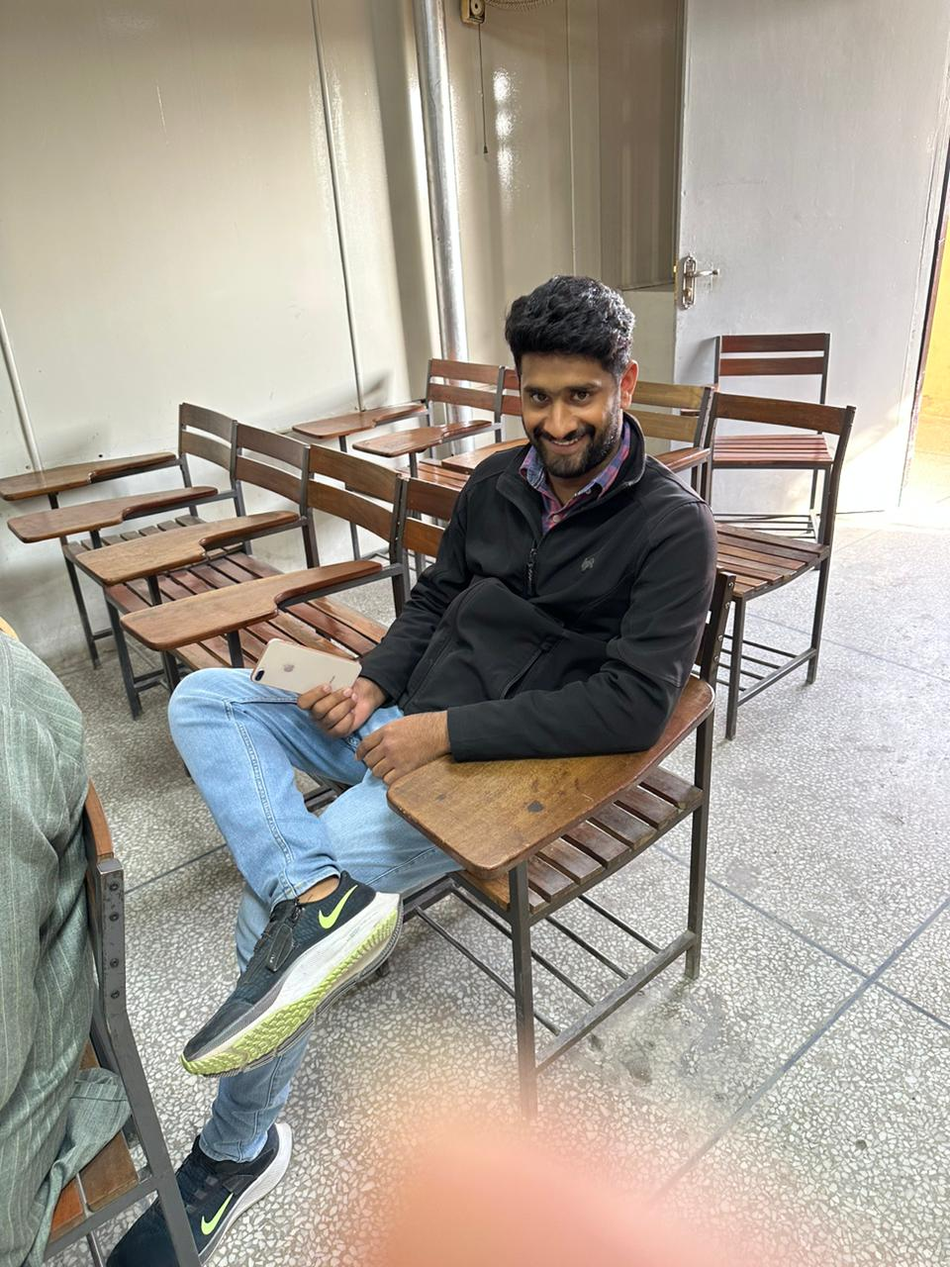phone: (248, 634, 385, 740)
